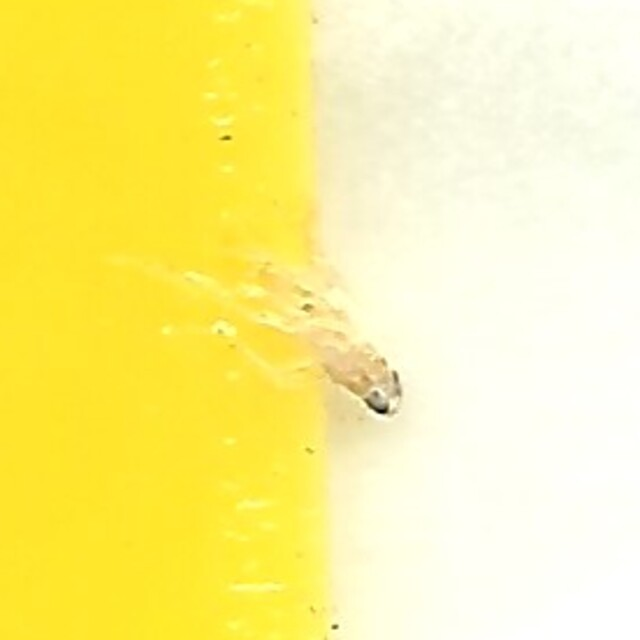Hemiptera: (232, 215, 408, 425)
